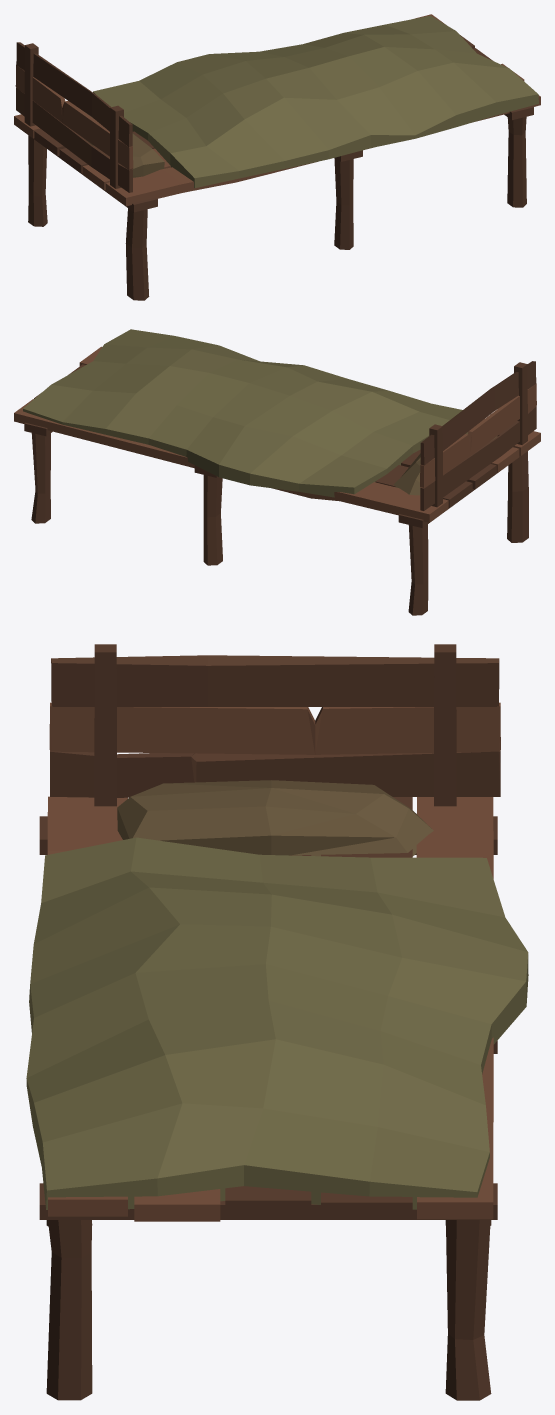
The model's file is Bed.fbx.
3 views of the same model, one above another, from view 1: azimuth 30°, elevation 25°; view 2: azimuth 150°, elevation 25°; view 3: azimuth 270°, elevation 25° (orthographic). The views are drawn at different scales.
Parts seen in each view (by area): view 1: Bed; view 2: Bed; view 3: Bed.
Boxes of the visible parts, x1,y1,x2,y2 form: Bed: [14, 14, 540, 300]; Bed: [14, 329, 540, 615]; Bed: [26, 644, 528, 1400].
Bounding box in the file's own units: 2.08 × 0.8681 × 1.08.
